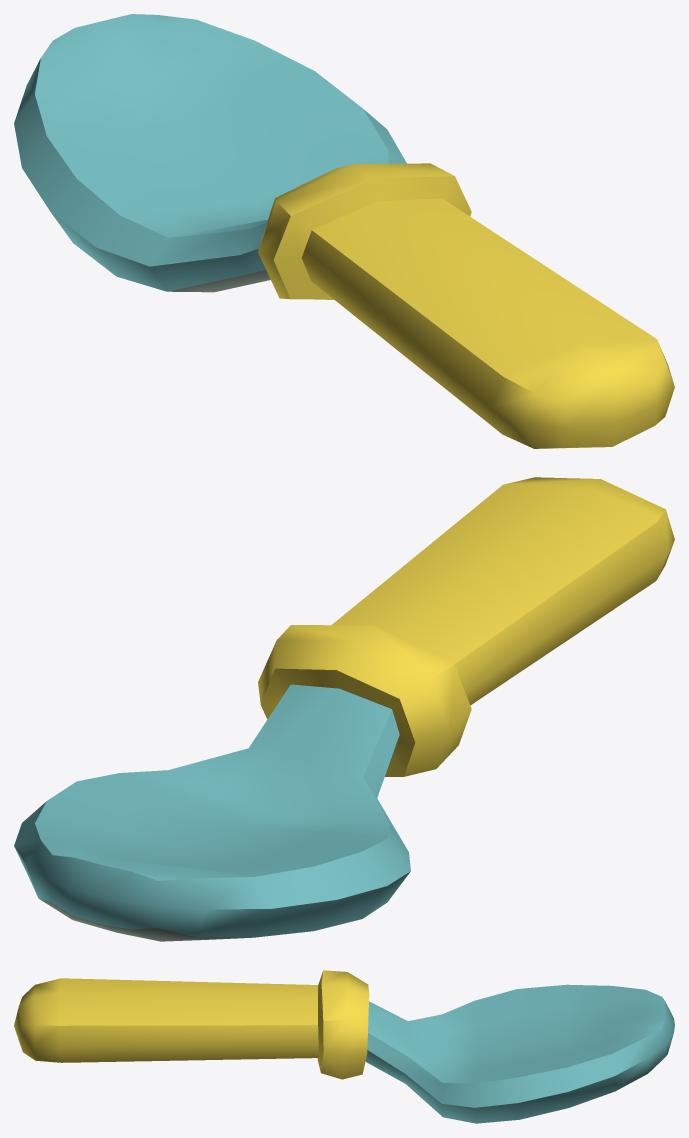
Rendered from itch_tiny_pleasant_picnic_spoon.glb.
The picture shows the model from 3 angles, top to bottom: view 1: azimuth 30°, elevation 25°; view 2: azimuth 150°, elevation 25°; view 3: azimuth 270°, elevation 25°; orthographic projection. The views are drawn at different scales.
Parts seen in each view (by area): view 1: spoon; view 2: spoon; view 3: spoon.
Boxes of the visible parts, x1,y1,x2,y2 form: spoon: [14, 14, 674, 448]; spoon: [14, 477, 674, 941]; spoon: [14, 970, 674, 1123].
Bounding box in the file's own units: 0.1567 × 0.0762 × 0.42.
